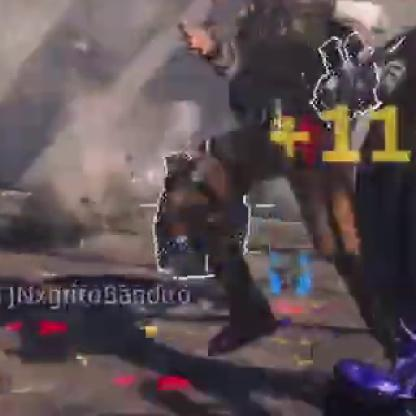enemy: (146, 1, 400, 366)
